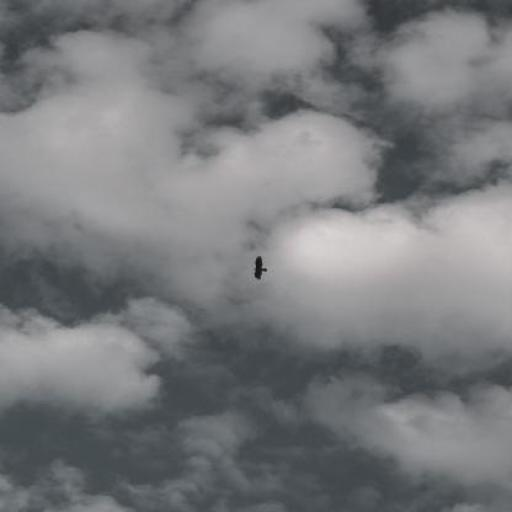bird: (251, 255, 270, 282)
